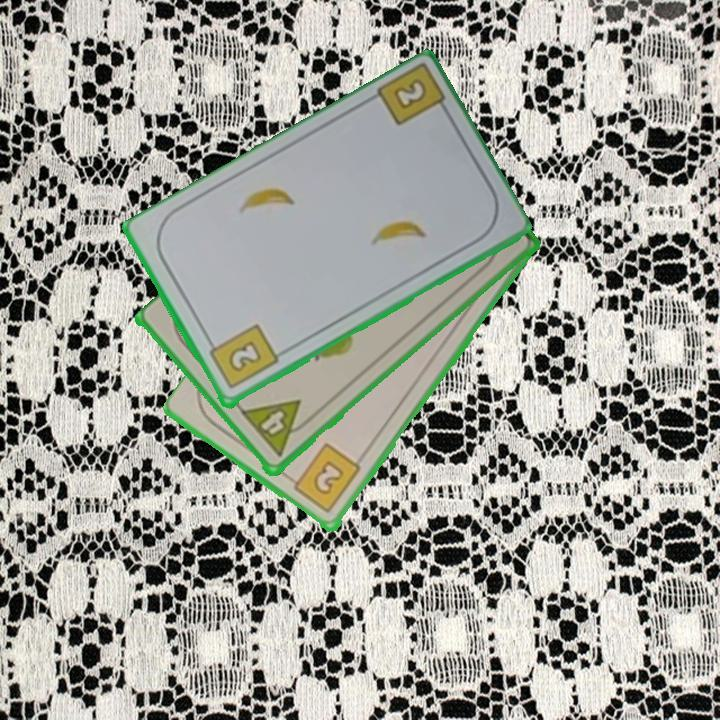2b: (284, 440, 364, 517), (204, 321, 281, 393), (389, 75, 430, 113)
4p: (238, 396, 316, 461)
